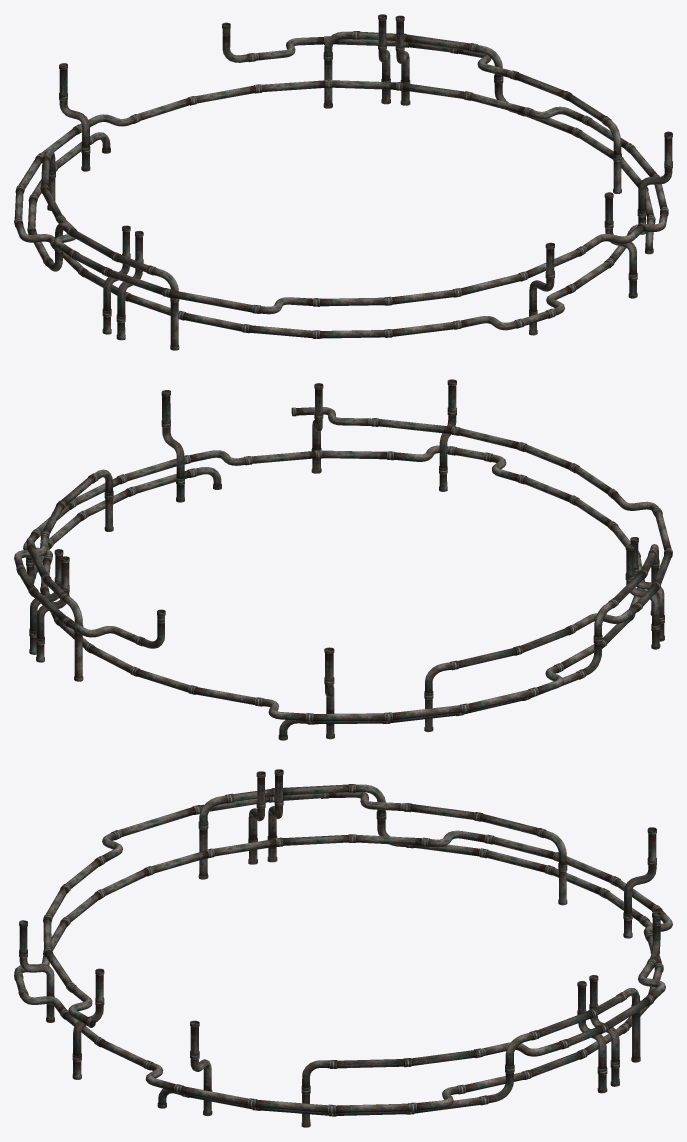
The model's file is 01_02_comm_room_pipes_pplant.dae.
3 renders of one model, top to bottom at view 1: azimuth 30°, elevation 25°; view 2: azimuth 150°, elevation 25°; view 3: azimuth 270°, elevation 25°, orthographic. The views are drawn at different scales.
Visible parts, largest first — view 1: static_pipes; view 2: static_pipes; view 3: static_pipes.
Part boxes in pixels (left/top/right/bottom): static_pipes: left=14, top=14, right=672, bottom=350; static_pipes: left=14, top=379, right=672, bottom=740; static_pipes: left=14, top=769, right=672, bottom=1127.
Bounding box in the file's own units: 1879 × 312 × 1831.
